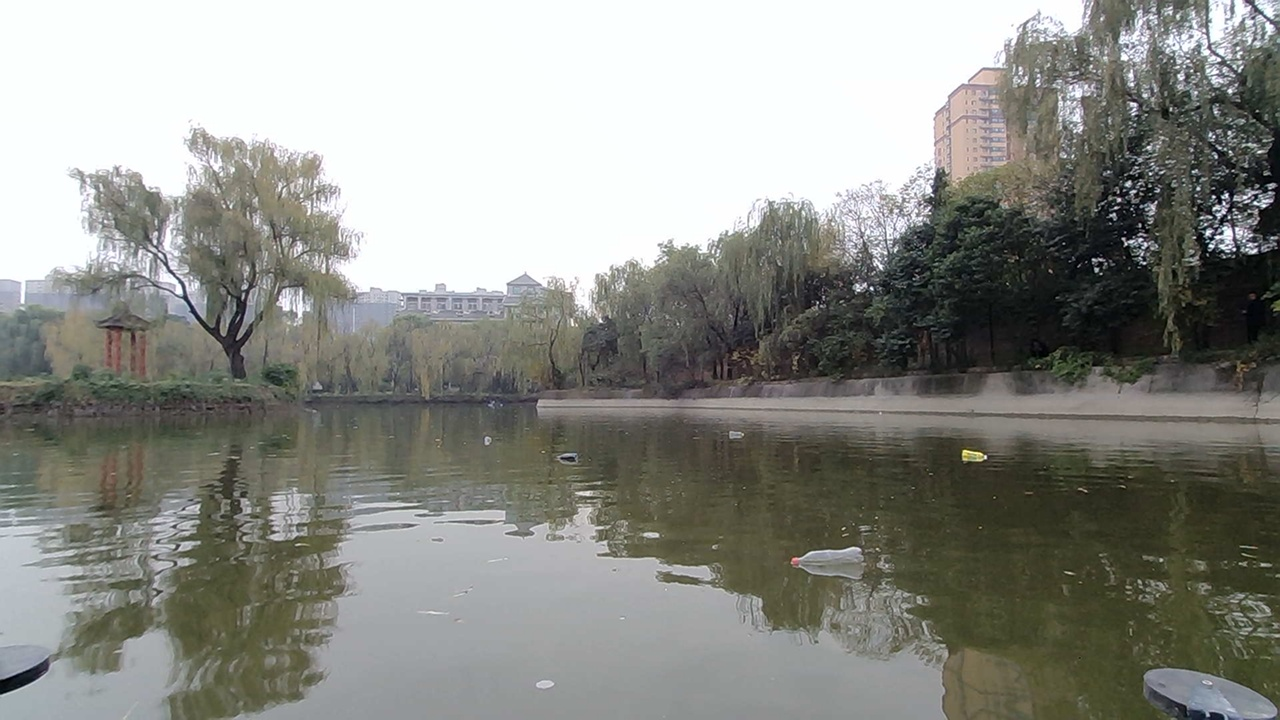bottle: (795, 519, 876, 591), (464, 429, 532, 459), (561, 430, 605, 470), (956, 436, 989, 470), (725, 419, 762, 442)
